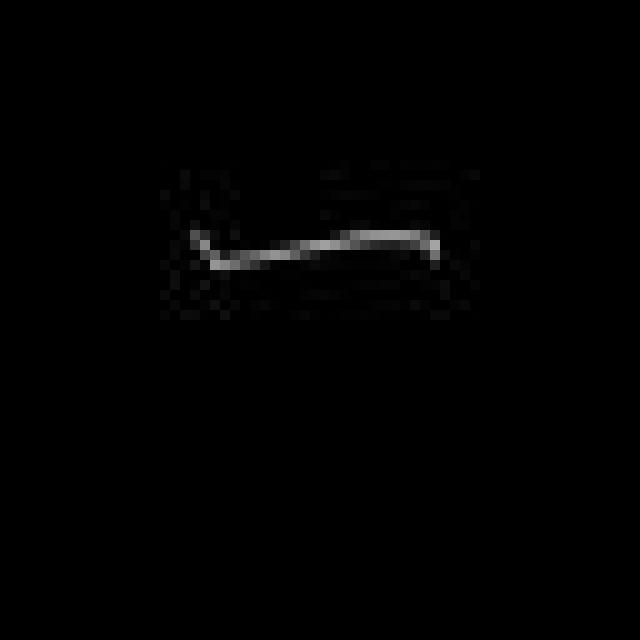1 -one-: (177, 220, 455, 278)
